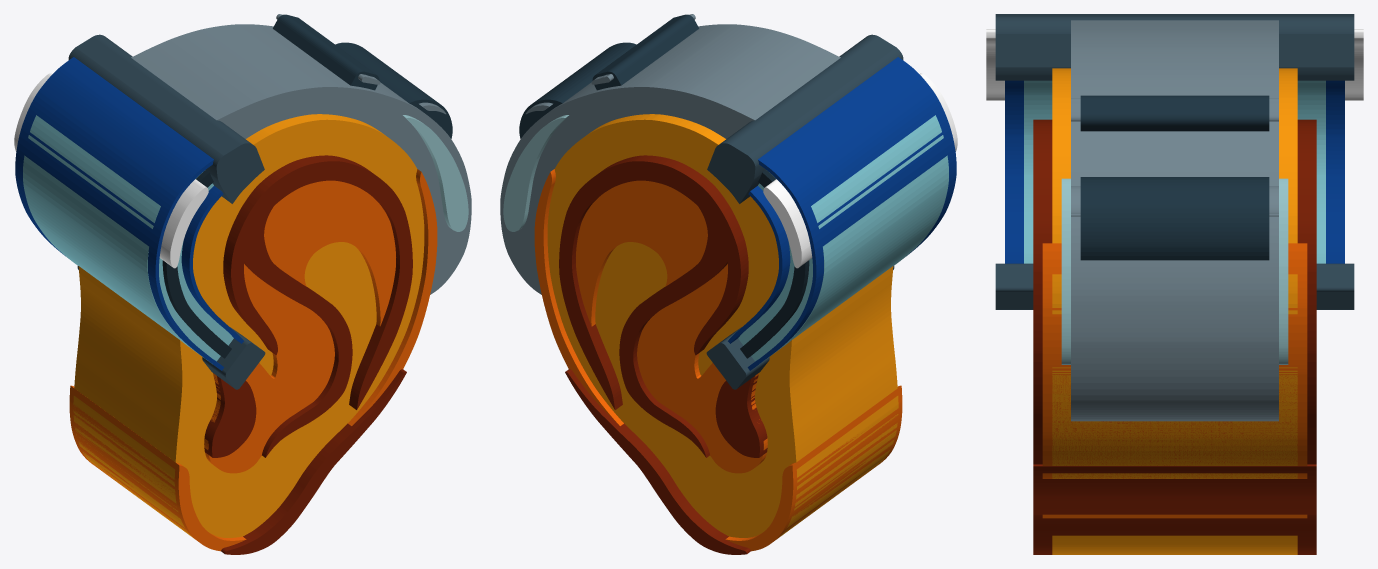
3 views of the same model, side by side, from view 1: azimuth 30°, elevation 25°; view 2: azimuth 150°, elevation 25°; view 3: azimuth 270°, elevation 25° (orthographic). The views are drawn at different scales.
Visible parts, largest first — view 1: U+1F9BB_layer03_obj00, U+1F9BB_layer01_obj00, U+1F9BB_layer08_obj00, U+1F9BB_layer04_obj01, U+1F9BB_layer05_obj00, U+1F9BB_layer06_obj00, U+1F9BB_layer09_obj01, U+1F9BB_layer04_obj02, U+1F9BB_layer05_obj01, U+1F9BB_layer04_obj00, U+1F9BB_layer05_obj02, U+1F9BB_layer00_obj02 (+5 smaller); view 2: U+1F9BB_layer03_obj00, U+1F9BB_layer01_obj00, U+1F9BB_layer08_obj00, U+1F9BB_layer04_obj01, U+1F9BB_layer05_obj00, U+1F9BB_layer06_obj00, U+1F9BB_layer09_obj01, U+1F9BB_layer04_obj02, U+1F9BB_layer05_obj01, U+1F9BB_layer04_obj00, U+1F9BB_layer05_obj02, U+1F9BB_layer00_obj02 (+5 smaller); view 3: U+1F9BB_layer01_obj00, U+1F9BB_layer03_obj00, U+1F9BB_layer05_obj01, U+1F9BB_layer00_obj00, U+1F9BB_layer04_obj00, U+1F9BB_layer09_obj01, U+1F9BB_layer05_obj00, U+1F9BB_layer00_obj02, U+1F9BB_layer08_obj00, U+1F9BB_layer06_obj00, U+1F9BB_layer02_obj01, U+1F9BB_layer09_obj00 (+3 smaller).
Part boxes in pixels (x1=…): U+1F9BB_layer03_obj00: x1=73, y1=114, x2=424, y2=538; U+1F9BB_layer01_obj00: x1=131, y1=24, x2=471, y2=294; U+1F9BB_layer08_obj00: x1=15, y1=57, x2=243, y2=370; U+1F9BB_layer04_obj01: x1=204, y1=180, x2=395, y2=473; U+1F9BB_layer05_obj00: x1=223, y1=155, x2=412, y2=457; U+1F9BB_layer06_obj00: x1=23, y1=115, x2=233, y2=361; U+1F9BB_layer09_obj01: x1=68, y1=34, x2=264, y2=203; U+1F9BB_layer04_obj02: x1=69, y1=385, x2=246, y2=551; U+1F9BB_layer05_obj01: x1=221, y1=369, x2=406, y2=554; U+1F9BB_layer04_obj00: x1=348, y1=169, x2=437, y2=425; U+1F9BB_layer05_obj02: x1=204, y1=376, x2=256, y2=457; U+1F9BB_layer00_obj02: x1=273, y1=14, x2=379, y2=90; U+1F9BB_layer03_obj00: x1=547, y1=114, x2=898, y2=538; U+1F9BB_layer01_obj00: x1=500, y1=24, x2=840, y2=294; U+1F9BB_layer08_obj00: x1=728, y1=57, x2=956, y2=370; U+1F9BB_layer04_obj01: x1=576, y1=180, x2=767, y2=473; U+1F9BB_layer05_obj00: x1=559, y1=155, x2=748, y2=457; U+1F9BB_layer06_obj00: x1=738, y1=115, x2=948, y2=361; U+1F9BB_layer09_obj01: x1=707, y1=34, x2=903, y2=203; U+1F9BB_layer04_obj02: x1=725, y1=385, x2=902, y2=551; U+1F9BB_layer05_obj01: x1=565, y1=369, x2=750, y2=554; U+1F9BB_layer04_obj00: x1=534, y1=169, x2=623, y2=425; U+1F9BB_layer05_obj02: x1=715, y1=375, x2=767, y2=457; U+1F9BB_layer00_obj02: x1=592, y1=14, x2=698, y2=90; U+1F9BB_layer01_obj00: x1=1071, y1=20, x2=1278, y2=421; U+1F9BB_layer03_obj00: x1=1052, y1=68, x2=1297, y2=554; U+1F9BB_layer05_obj01: x1=1033, y1=464, x2=1316, y2=554; U+1F9BB_layer00_obj00: x1=1080, y1=177, x2=1269, y2=260; U+1F9BB_layer04_obj00: x1=1042, y1=243, x2=1307, y2=518; U+1F9BB_layer09_obj01: x1=995, y1=14, x2=1354, y2=80; U+1F9BB_layer05_obj00: x1=1033, y1=119, x2=1316, y2=464; U+1F9BB_layer00_obj02: x1=1080, y1=95, x2=1269, y2=131; U+1F9BB_layer08_obj00: x1=1005, y1=80, x2=1344, y2=263; U+1F9BB_layer06_obj00: x1=1024, y1=80, x2=1325, y2=263; U+1F9BB_layer02_obj01: x1=1061, y1=178, x2=1288, y2=364; U+1F9BB_layer09_obj00: x1=995, y1=263, x2=1354, y2=309.
Size of the model in its own units: 0.2544 by 0.3092 by 0.2.
